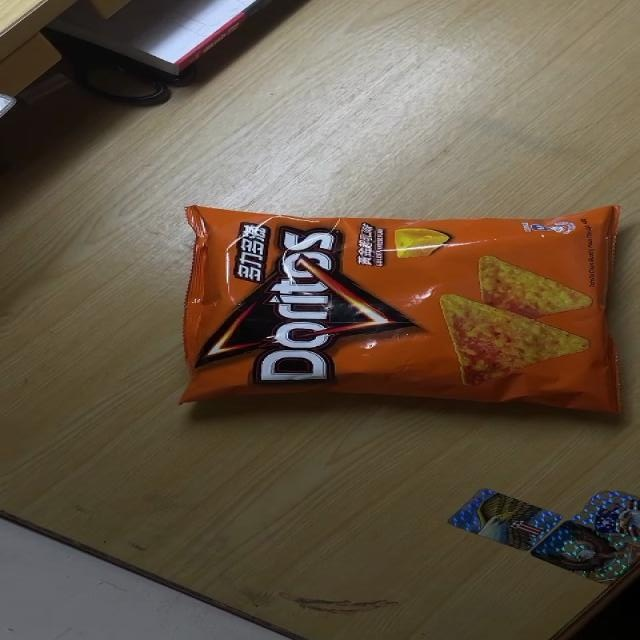Doritos: (172, 204, 621, 412)
